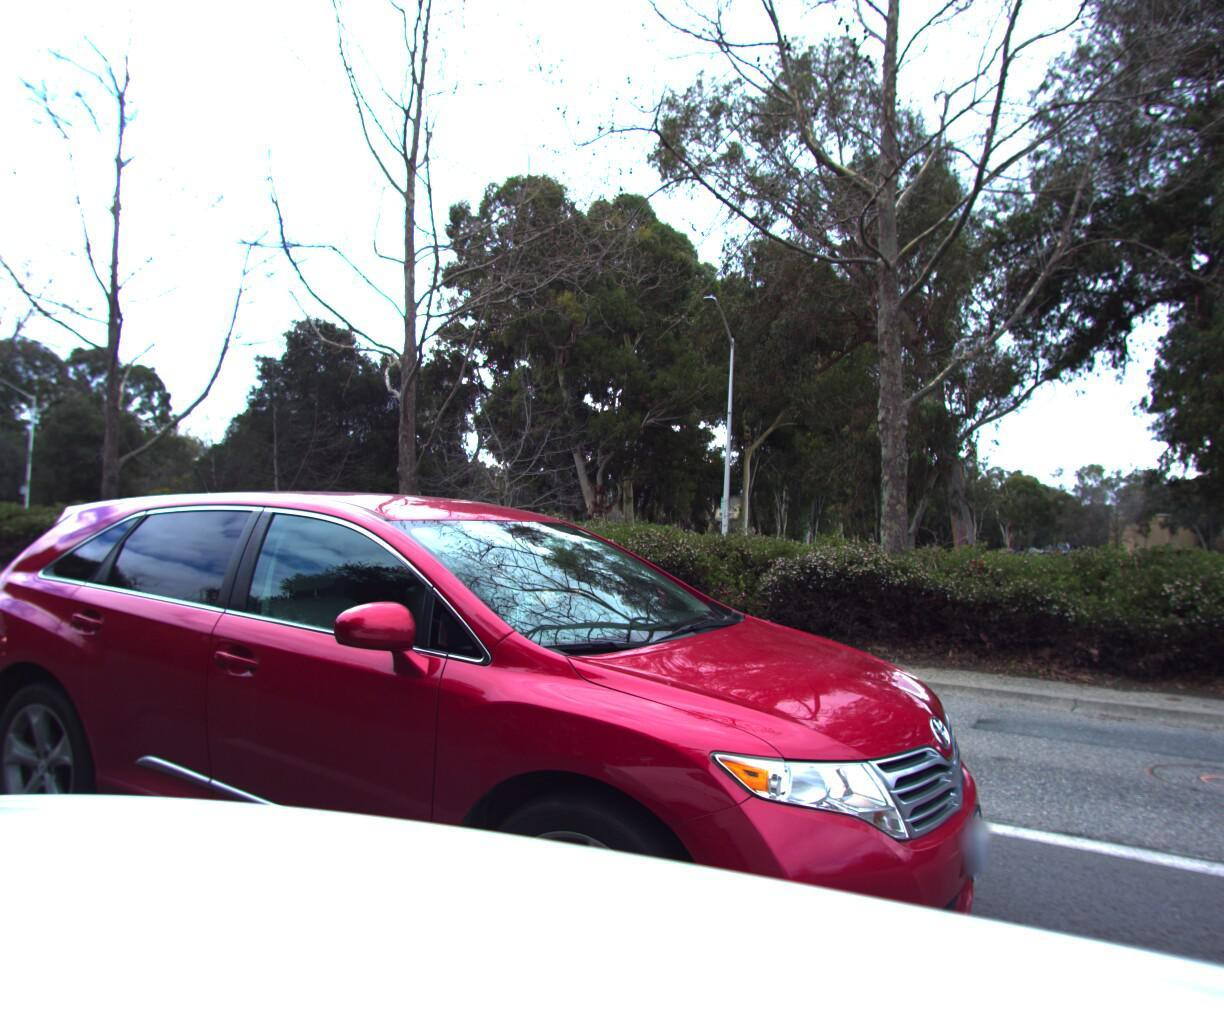car: (0, 469, 1011, 1024)
